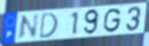1: (70, 11, 80, 36)
3: (124, 6, 142, 32)
9: (82, 9, 101, 36)
D: (38, 12, 60, 41)
G: (102, 7, 123, 34)
N: (17, 13, 40, 42)
